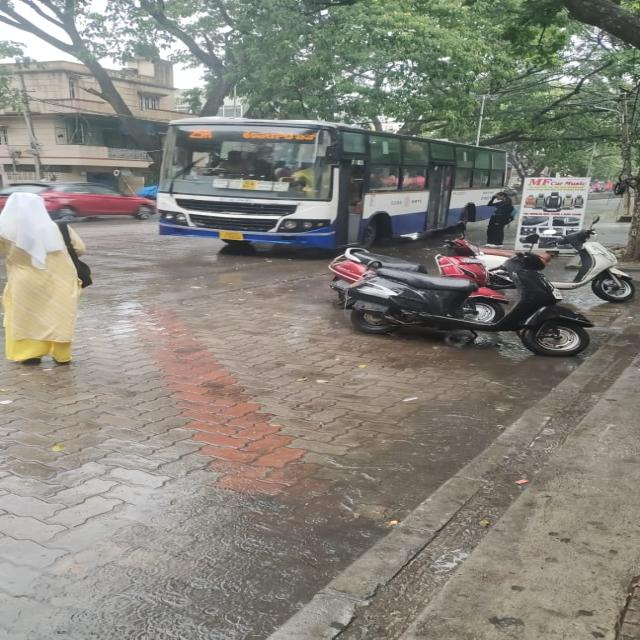bus: (156, 115, 510, 251)
display: (172, 125, 323, 144)
dnumber: (186, 128, 214, 139)
